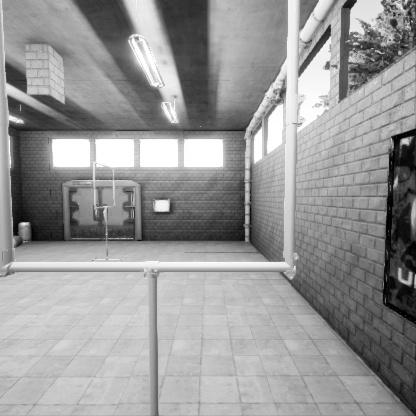gate: (92, 209, 115, 256)
